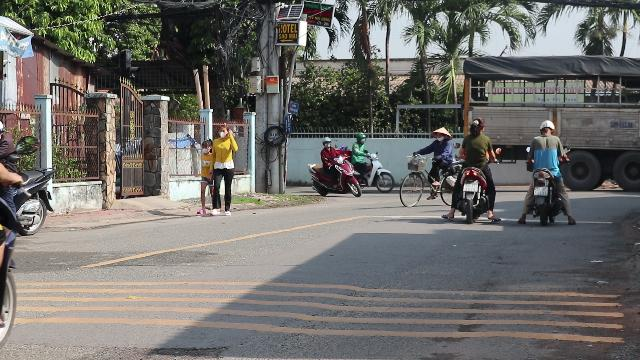licenseplate: (463, 183, 477, 191)
motorcyclist: (448, 116, 499, 222)
nohelmet: (468, 117, 484, 134)
